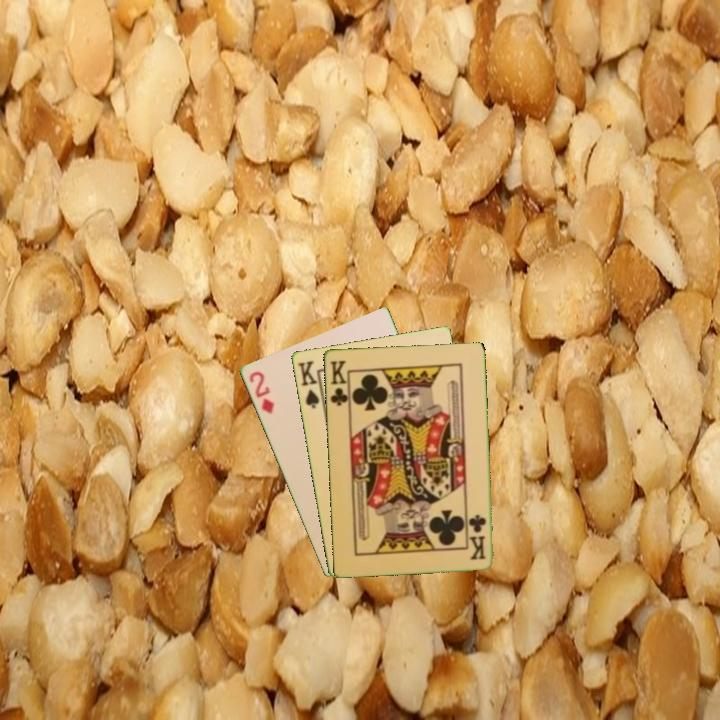2d: (245, 367, 277, 417)
Kc: (326, 357, 352, 410), (466, 511, 488, 562)
Ks: (294, 357, 326, 411)
